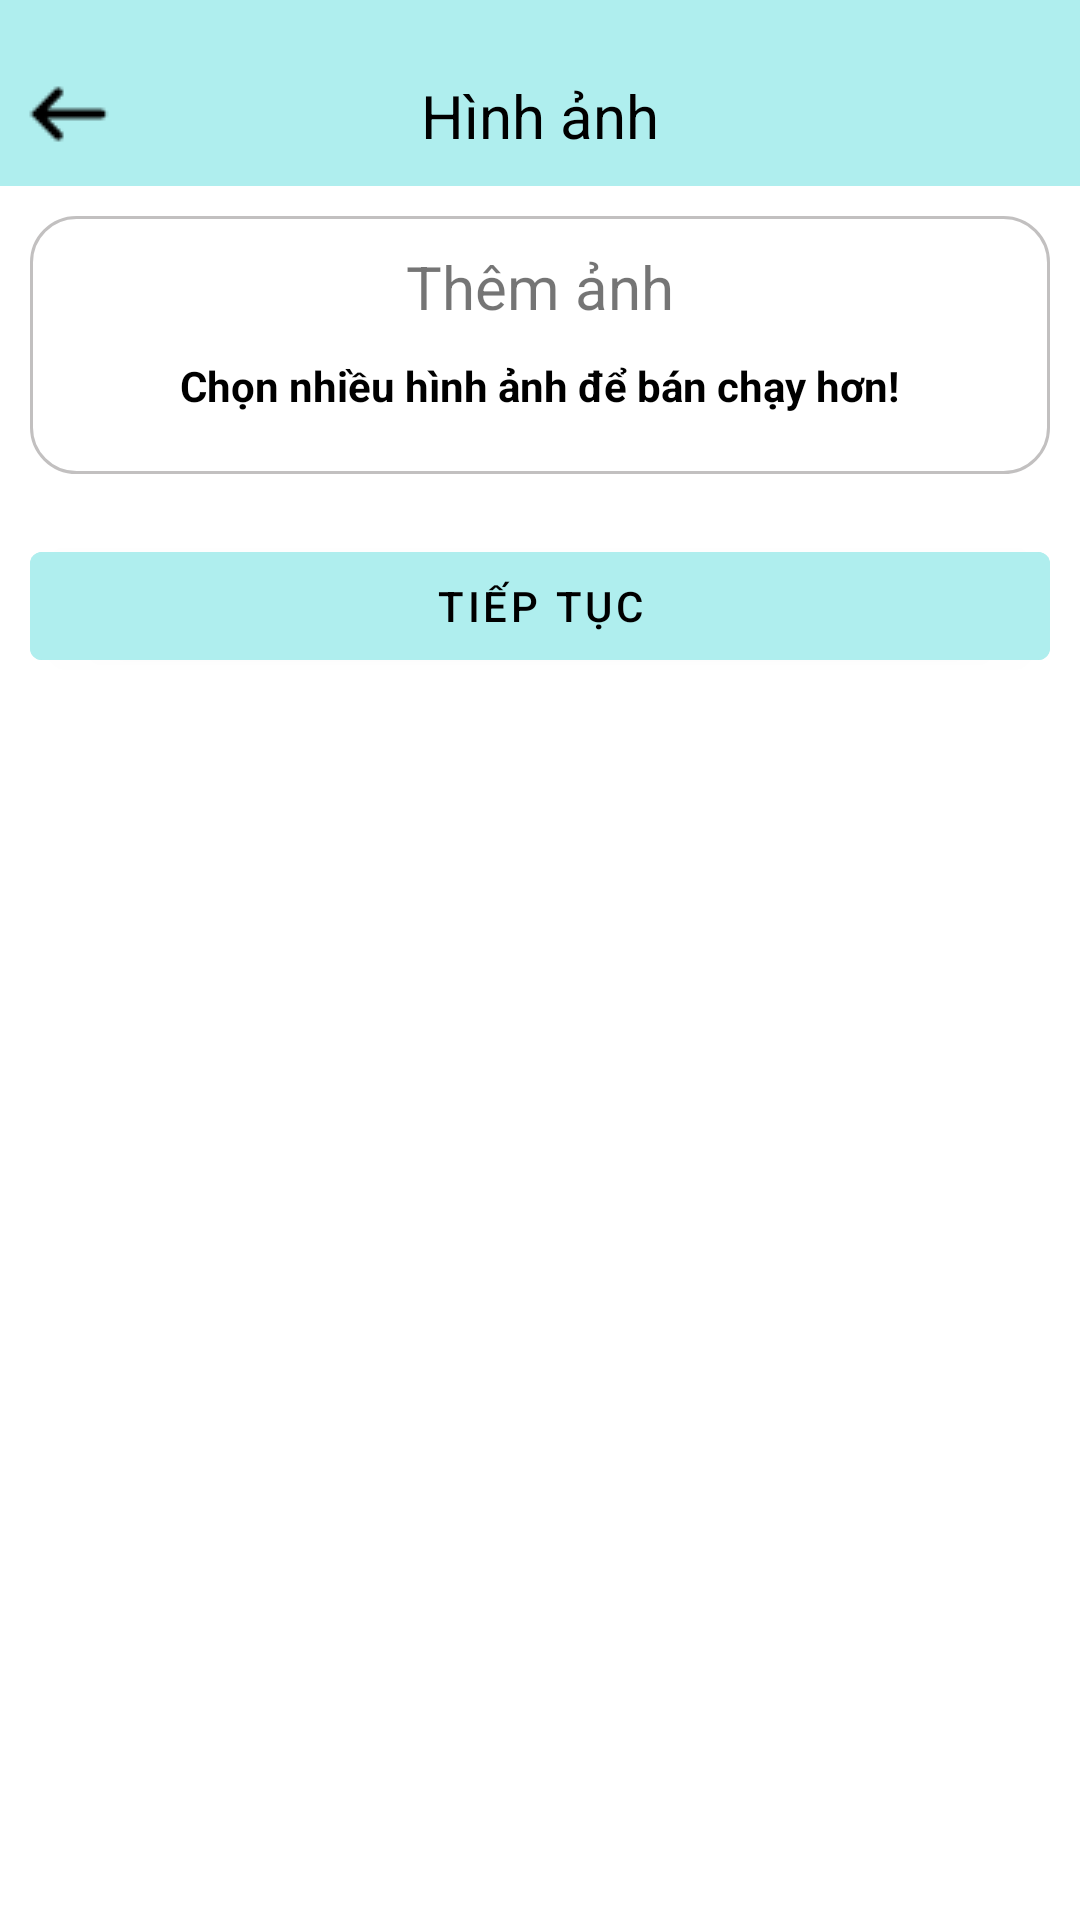

Screen size 1080 x 1920. Icon name, then its box in pixels as bbox(x1, y1, x2, y2):
back: bbox(30, 86, 107, 142)
